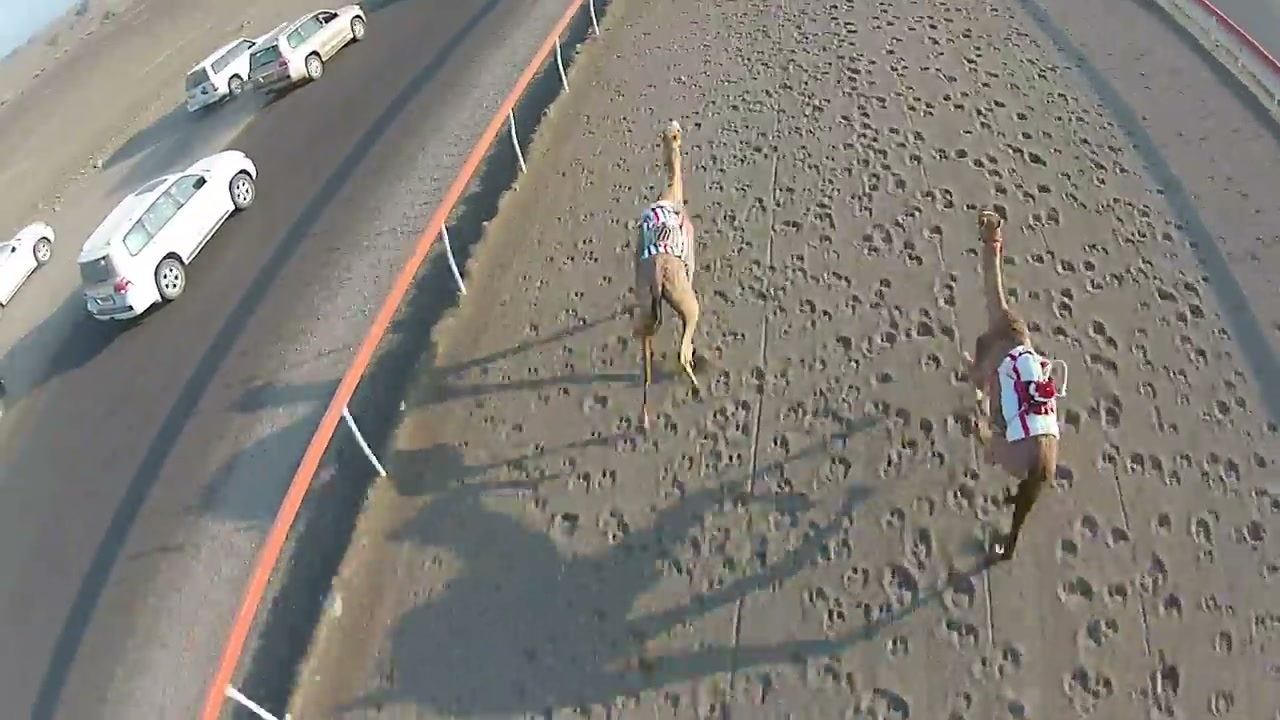animal_footprint: (671, 7, 1006, 719), (960, 56, 1204, 689), (502, 198, 679, 719)
